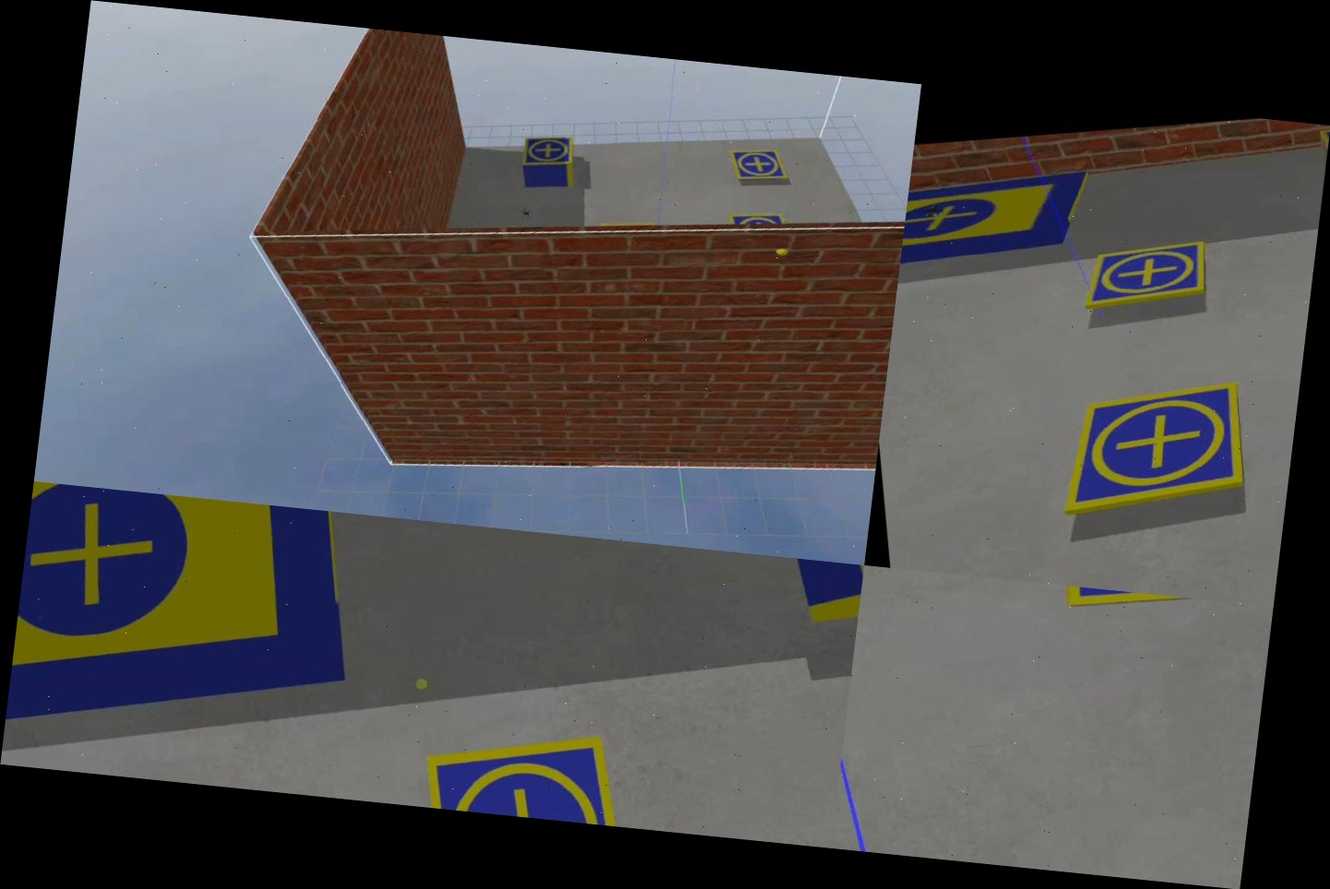large_base: (3, 481, 365, 774), (899, 156, 1100, 287)
small_base: (1040, 368, 1262, 537), (419, 717, 650, 828), (1075, 227, 1216, 320), (725, 138, 794, 191), (516, 126, 581, 174), (728, 205, 788, 235)
